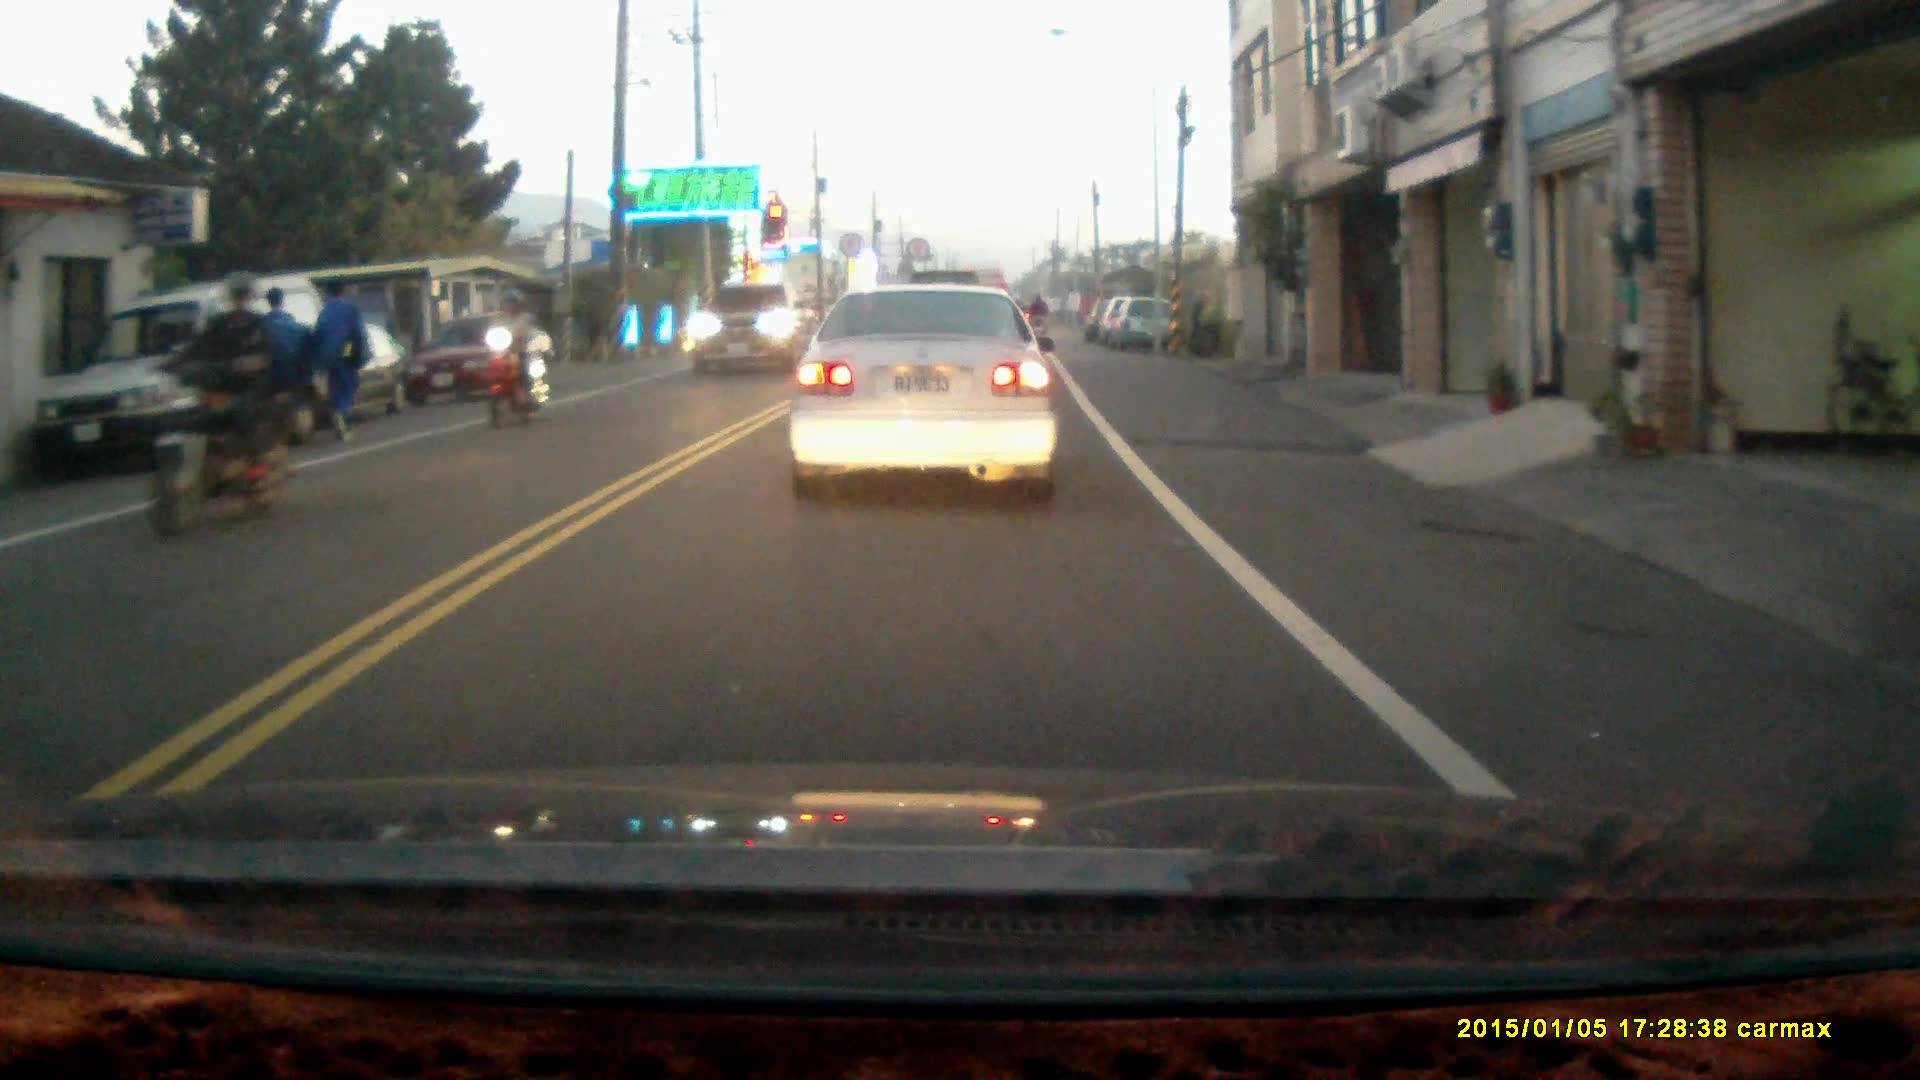pedestrian: (315, 276, 369, 445)
rider: (143, 267, 320, 540), (477, 292, 549, 430)
vehicle: (788, 279, 1062, 506), (28, 275, 324, 475), (215, 311, 419, 422), (407, 312, 567, 419), (685, 275, 805, 376), (1109, 299, 1182, 356)
